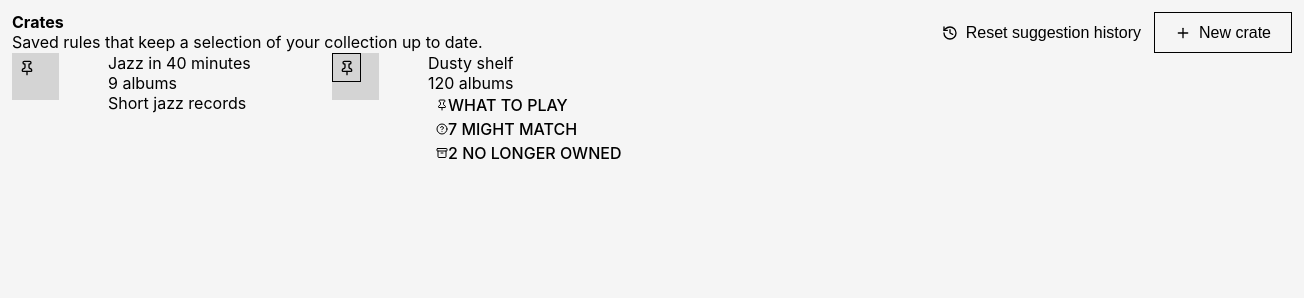
Test case: CratesPage › list › opens a crate in the detail view
Click the button with aria-label "Open crate Jazz in 40 minutes": {"x": 172, "y": 109} [12,53,332,165]
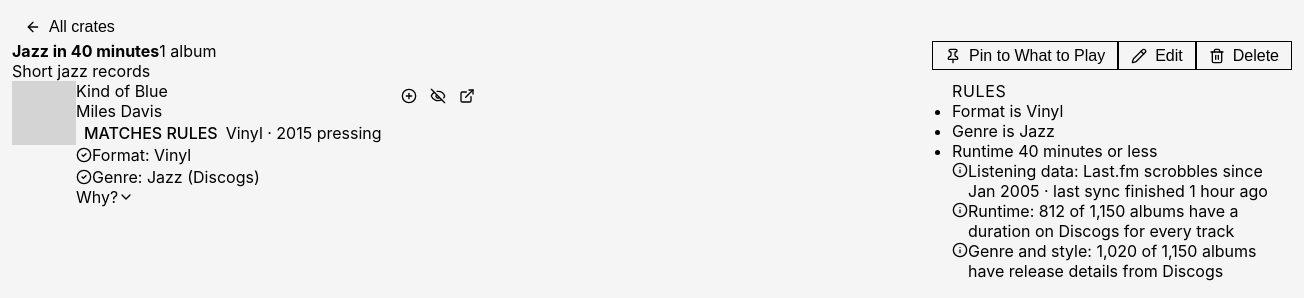
Expected: the heading "Jazz in 40 minutes" is shown, [12,41,159,61]
Expected: the link "Kind of Blue" is shown, [76,81,168,101]
